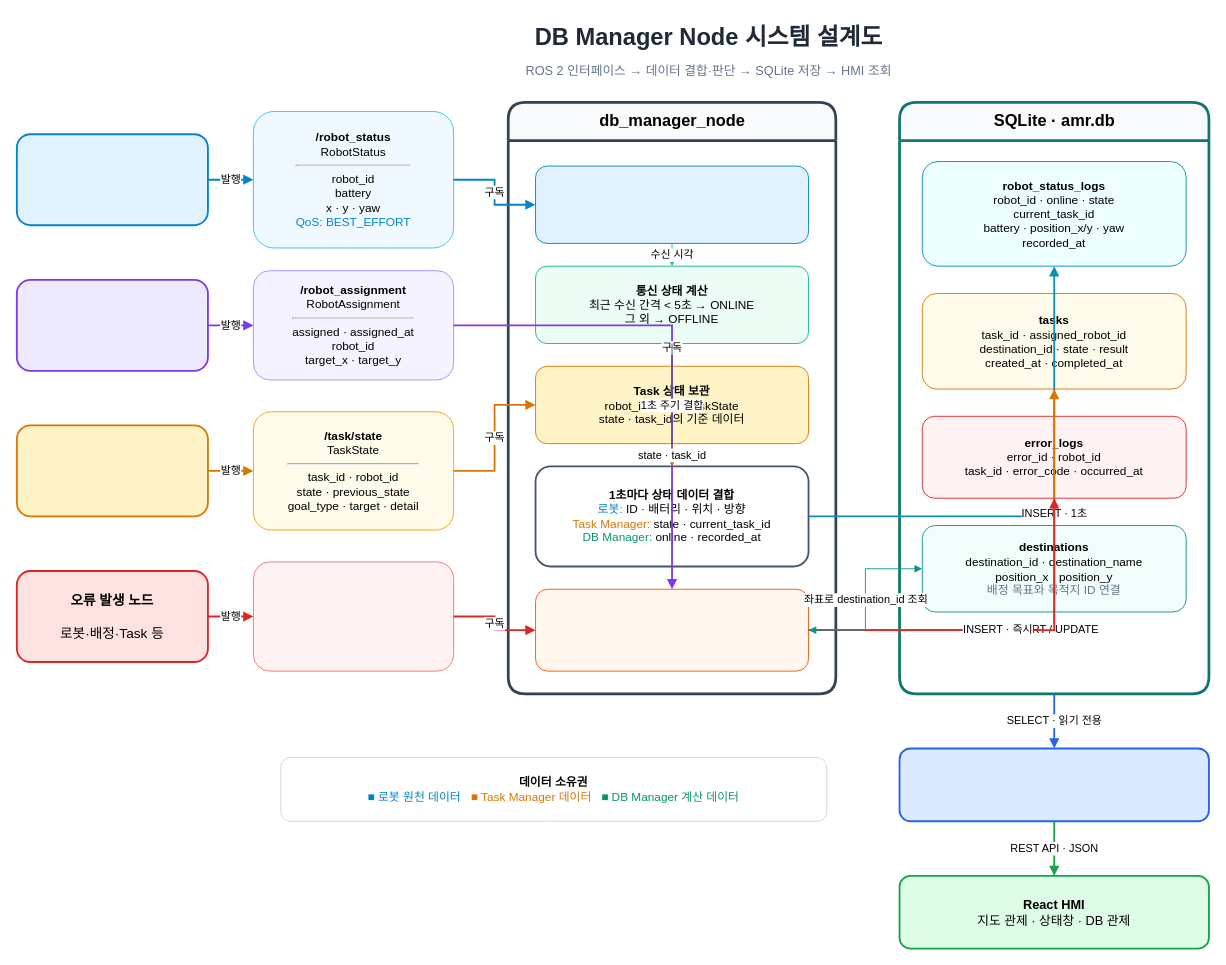
Some shapes in this 1226 by 965 pixel diagram are drawn without their labels. The centre of each missing label's shape, as x and y in pixels:
/robot_error RobotError robot_id task_id (없으면 NULL) error_code: the point at 353,616
AMR Allocation Node AMR 배정 결과: the point at 111,324
AMR robot5 / robot11 로봇 센서·상태 원천: the point at 111,179
HMI Backend Node 최신 로봇 상태·Task·오류·테이블 조회: the point at 1053,784
Task Manager Node Task·로봇 상태 전환: the point at 111,470
이벤트 즉시 저장 배정 결과 → Task 생성 Task 전환 → Task 갱신 오류 → 오류 로그 생성: the point at 672,629
최신 로봇 상태 보관 robot_id별 최신 RobotStatus 마지막 수신 시각: the point at 672,204
